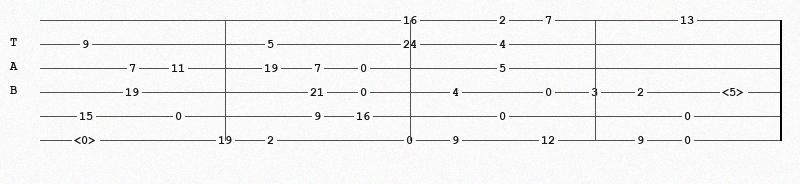0: (175, 110, 186, 122), (360, 86, 371, 98), (360, 62, 371, 74), (406, 134, 417, 146), (499, 110, 510, 122), (545, 86, 556, 98), (684, 110, 695, 122), (684, 134, 695, 146)
11: (171, 62, 189, 74)
12: (541, 134, 559, 146)
13: (680, 14, 698, 26)
15: (79, 110, 97, 122)
16: (356, 110, 374, 122), (403, 14, 421, 26)
19: (125, 86, 143, 98), (218, 134, 236, 146), (264, 62, 282, 74)
2: (267, 134, 278, 146), (499, 14, 510, 26), (637, 86, 648, 98)
21: (310, 86, 328, 98)
24: (403, 38, 421, 50)
3: (591, 86, 602, 98)
4: (452, 86, 463, 98), (499, 38, 510, 50)
5: (267, 38, 278, 50), (499, 62, 510, 74)
7: (129, 62, 140, 74), (314, 62, 325, 74), (545, 14, 556, 26)
9: (82, 38, 93, 50), (314, 110, 325, 122), (452, 134, 463, 146), (637, 134, 648, 146)
harmonic: (74, 134, 101, 146), (722, 86, 749, 98)
